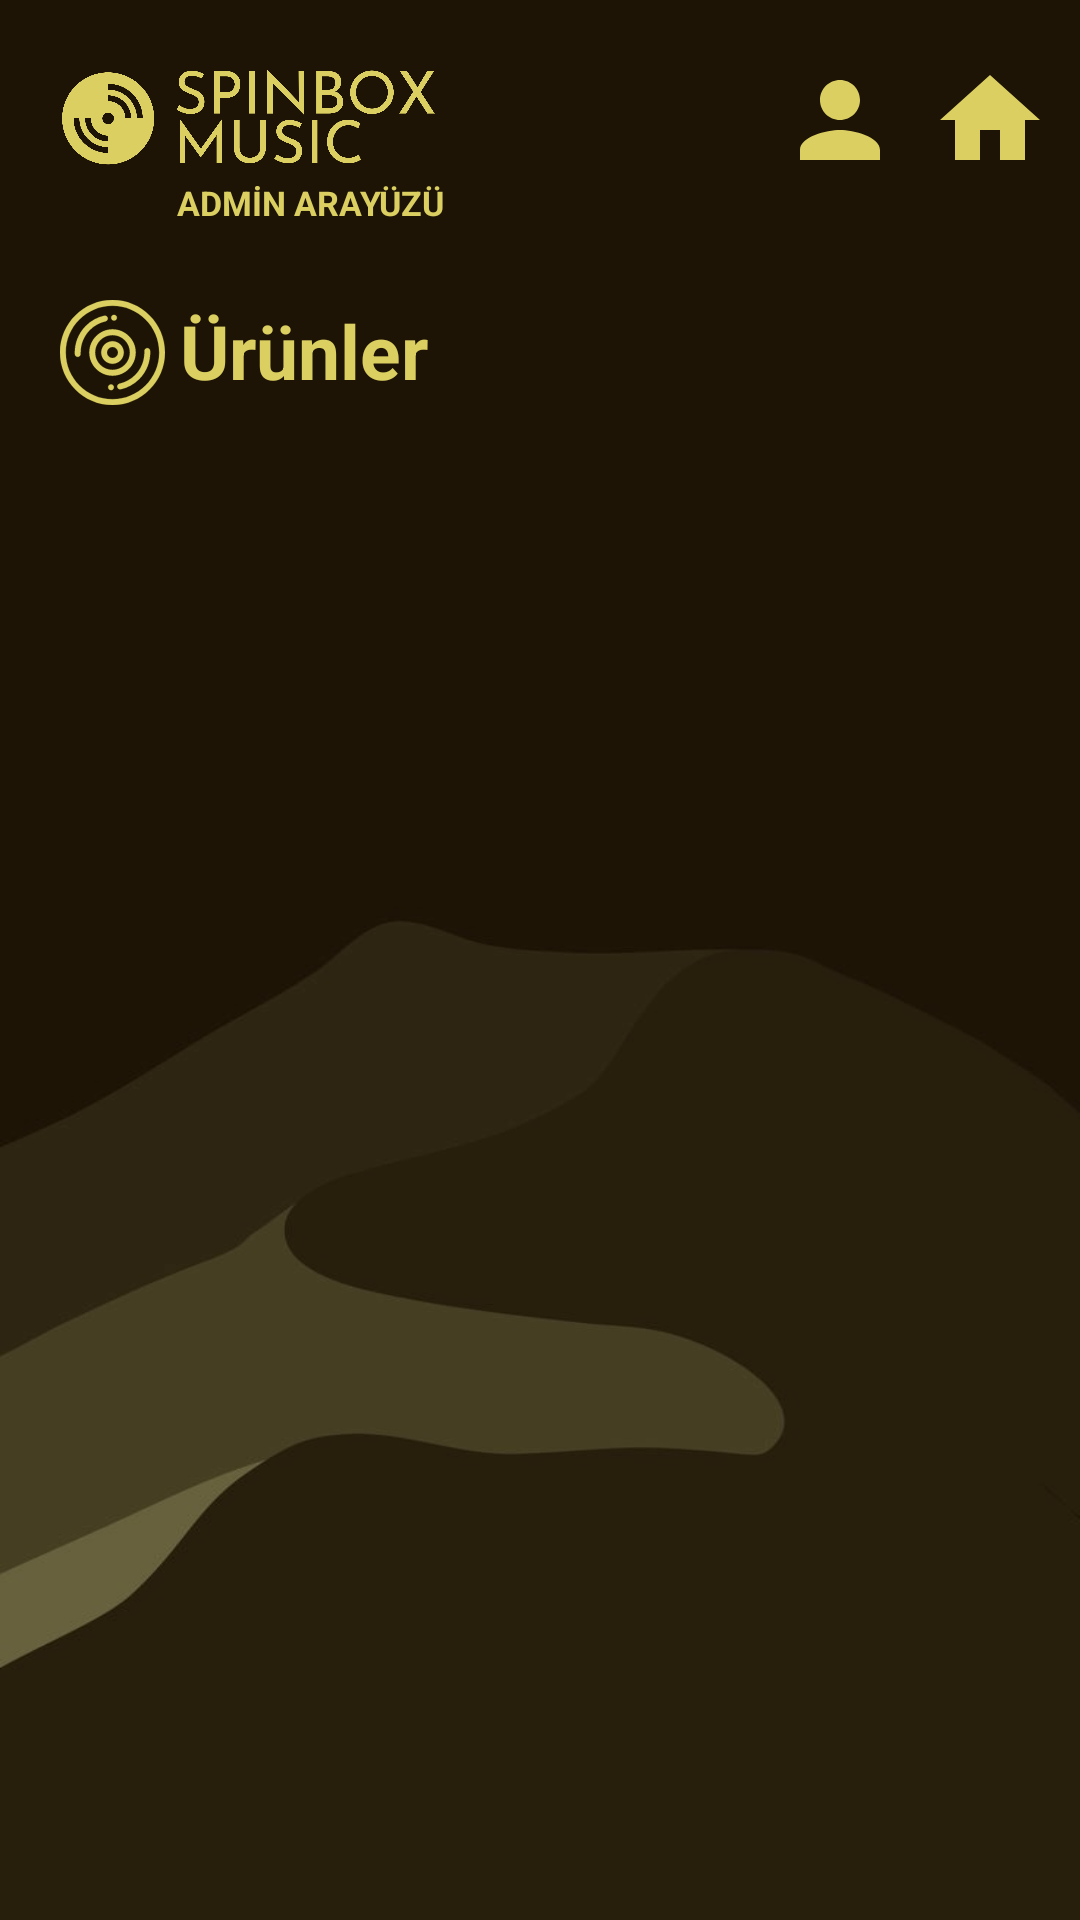

Where icons sit on this 1080px×1920px app screen, as (left=x1, top=y1, right=x2, bottom=y2):
home: (left=940, top=75, right=1040, bottom=160)
person: (left=800, top=80, right=880, bottom=160)
